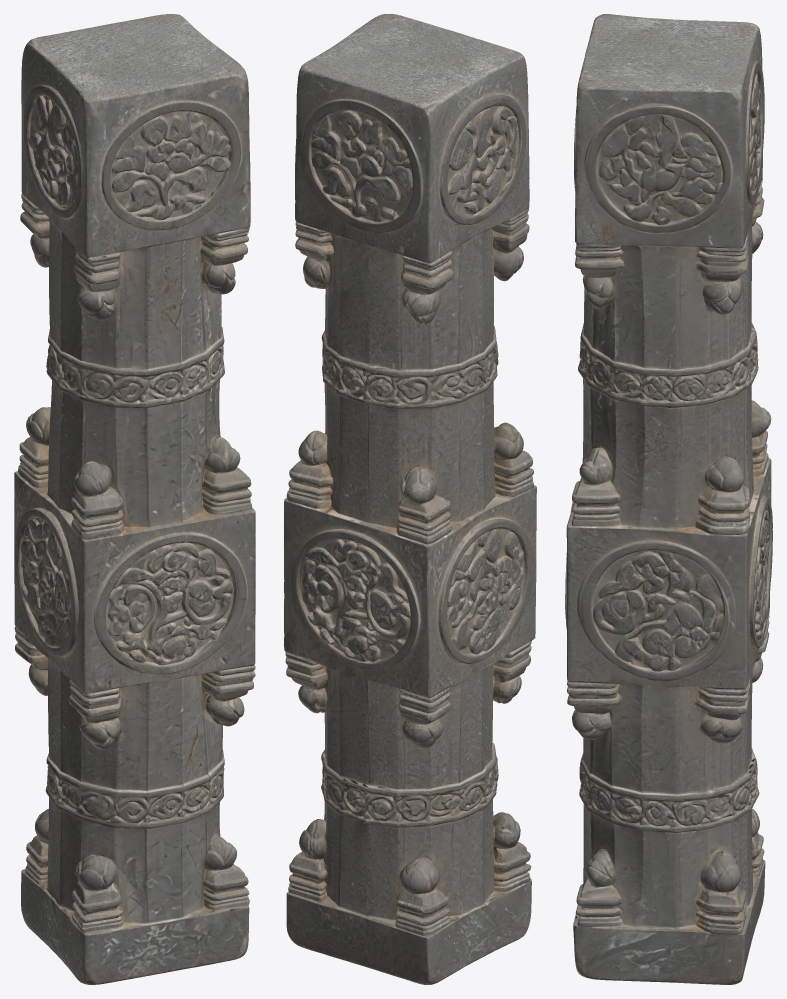
Rendered from bedchamber.glb.
3 renders of one model, left to right at view 1: azimuth 30°, elevation 25°; view 2: azimuth 150°, elevation 25°; view 3: azimuth 270°, elevation 25°, orthographic.
Visible parts, largest first — view 1: model; view 2: model; view 3: model.
Part boxes in pixels (x1=…): model: x1=14, y1=14, x2=255, y2=984; model: x1=284, y1=14, x2=536, y2=984; model: x1=565, y1=14, x2=772, y2=984.
Bounding box in the file's own units: 0.4073 × 1.9 × 0.4003.
Materials: 1 (1 with a texture image).
